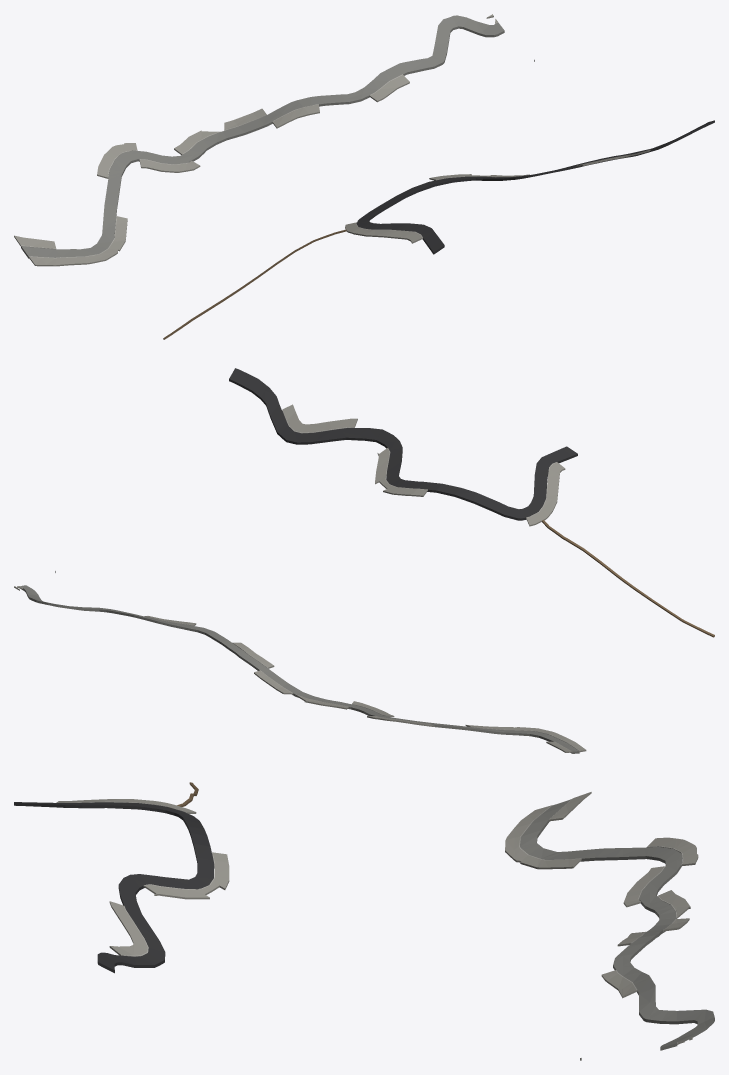
3 renders of one model, top to bottom at view 1: azimuth 30°, elevation 25°; view 2: azimuth 150°, elevation 25°; view 3: azimuth 270°, elevation 25°, orthographic. The views are drawn at different scales.
Size of the model in its own units: 293 by 76.3 by 258.
